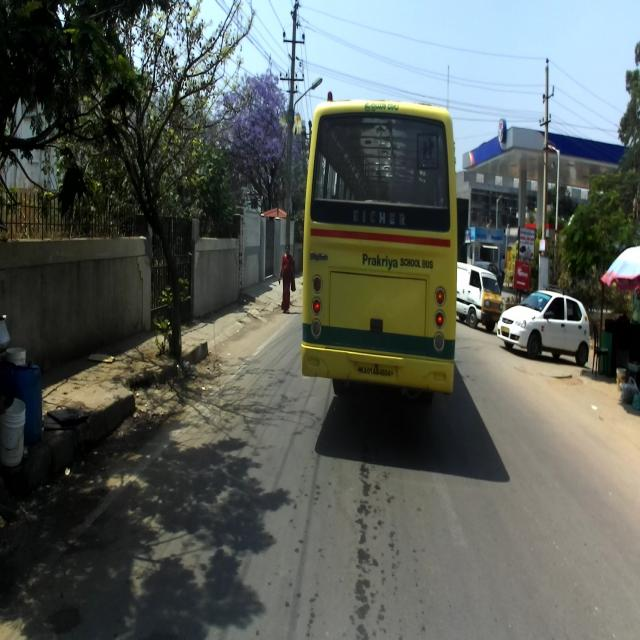bus: (300, 91, 460, 404)
car: (496, 287, 589, 366), (451, 260, 503, 330)
